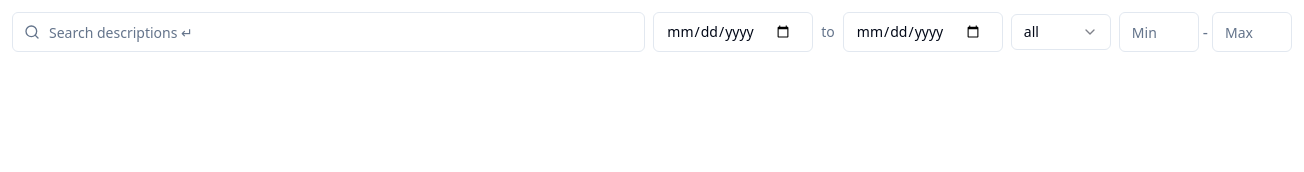
Test case: TransactionFilterBar › submits description search on Enter and clears it immediately
Type "coffee" into the field with placeholder "Search descriptions ↵" at (329, 32), box [12,12,645,52]
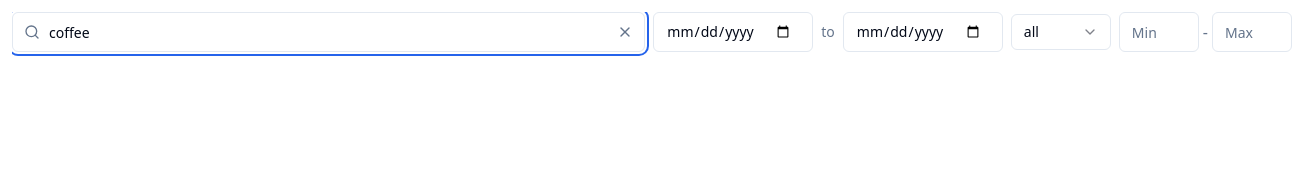
Press Enter
Click the button named "Clear search" at (625, 32), box [617,24,633,40]
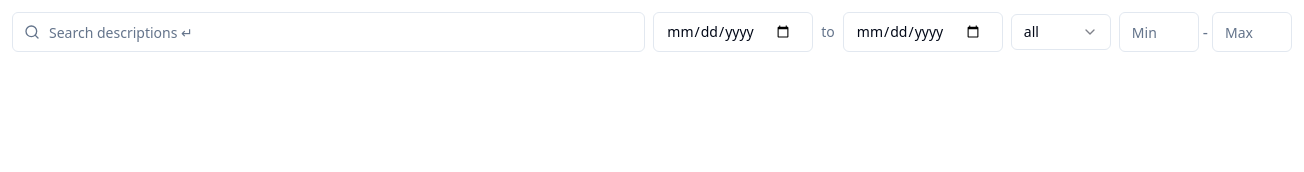
Check: the field with placeholder "Search descriptions ↵" is empty, box [12,12,645,52]
